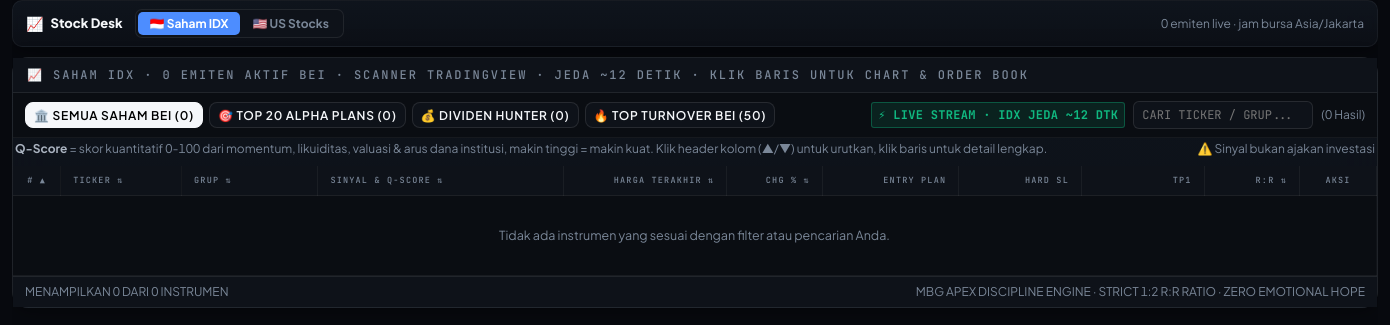
Test: StockDeskTab › switches to the US market and updates the session hint
Step 1. Click the button "🇺🇸 US Stocks" → (291,24), box x1=240 y1=12 x2=341 y2=35
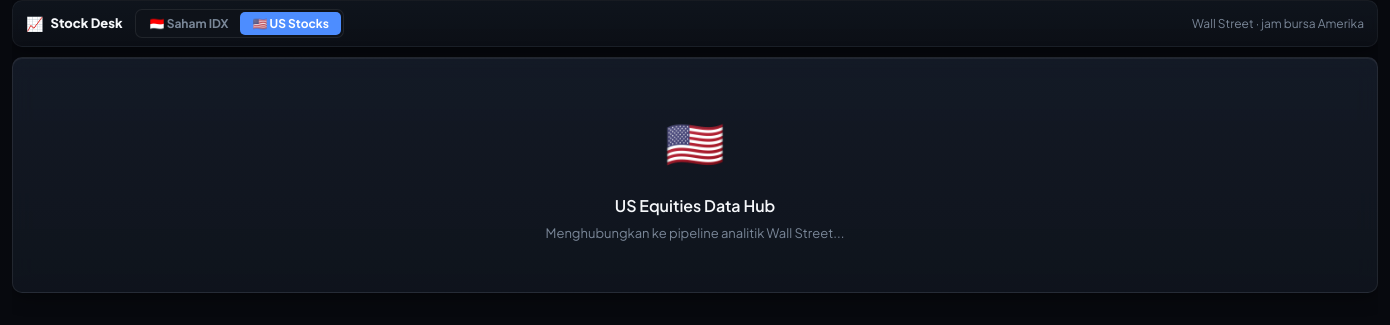
Result: the text "Wall Street · jam bursa Amerika" is shown at x1=1192 y1=14 x2=1364 y2=32
